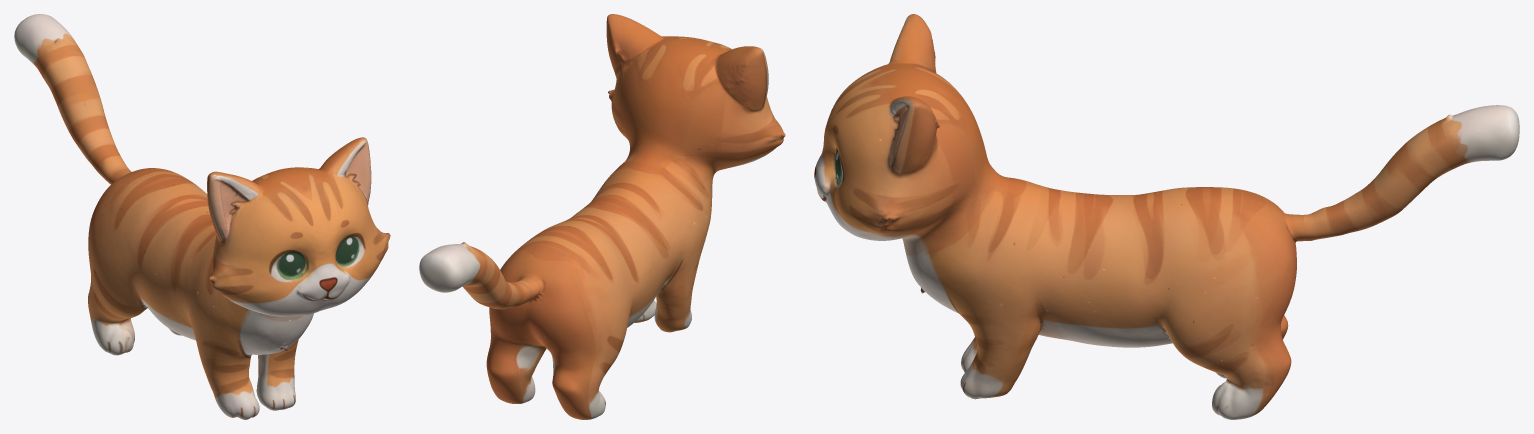
The model's file is pet_cat_stand.glb.
3 renders of one model, left to right at view 1: azimuth 30°, elevation 25°; view 2: azimuth 150°, elevation 25°; view 3: azimuth 270°, elevation 25°, orthographic. The views are drawn at different scales.
Parts seen in each view (by area): view 1: Mesh_0; view 2: Mesh_0; view 3: Mesh_0.
Part boxes in pixels (x1,y1,x2,y2): Mesh_0: (14, 14, 390, 419); Mesh_0: (419, 14, 785, 419); Mesh_0: (814, 14, 1519, 419).
Size of the model in its own units: 0.6986 by 1.06 by 2.
Materials: 1 (1 with a texture image).
